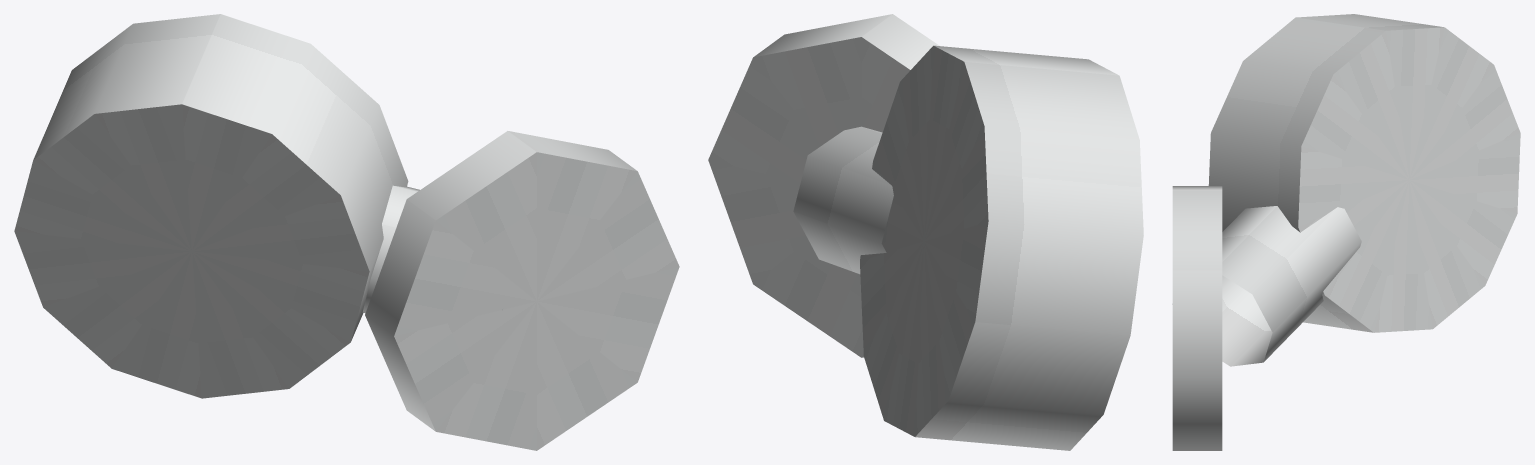
Rendered from nycsignalarm_stub_77.obj.
The picture shows the model from 3 angles, left to right: view 1: azimuth 30°, elevation 25°; view 2: azimuth 150°, elevation 25°; view 3: azimuth 270°, elevation 25°; orthographic projection. The views are drawn at different scales.
Parts seen in each view (by area): view 1: nycsignalarm_stub_77; view 2: nycsignalarm_stub_77; view 3: nycsignalarm_stub_77.
Part boxes in pixels (x1,y1,x2,y2): nycsignalarm_stub_77: (14,14,679,450); nycsignalarm_stub_77: (708,14,1143,450); nycsignalarm_stub_77: (1172,14,1520,450).
Size of the model in its own units: 0.6309 by 0.4595 by 0.4323.
